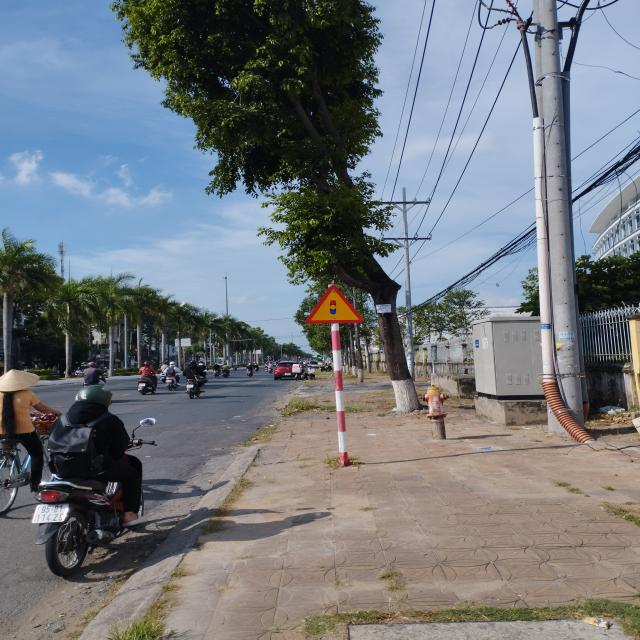Duong_Co_Go_Giam_Toc: (305, 286, 364, 322)
